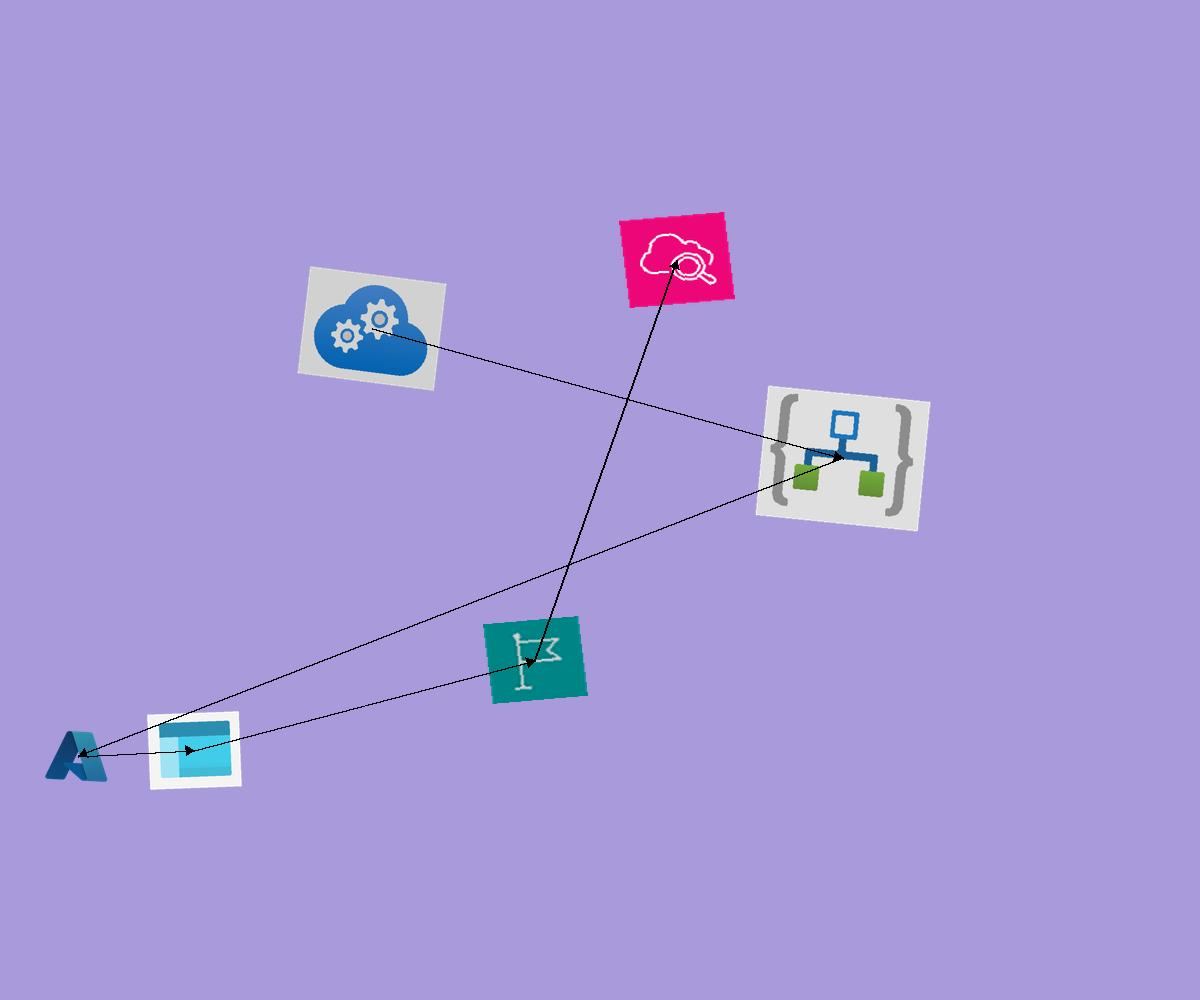AWS-CloudWatch: (619, 212, 735, 308)
AWS-Region: (483, 616, 588, 704)
Azure_cloud_services: (297, 266, 447, 391)
Azure_integration-204-Logic-Apps: (755, 385, 931, 532)
Azure_management-portal: (147, 711, 242, 790)
Azure_services: (42, 726, 114, 786)
